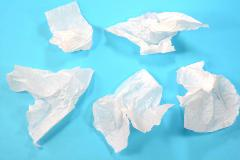paper: (6, 64, 94, 146), (92, 68, 174, 152), (176, 60, 240, 132), (105, 12, 209, 54), (44, 0, 92, 52)
